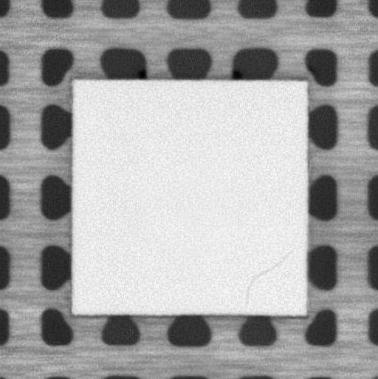DIE_CRACK: (243, 249, 294, 309)
